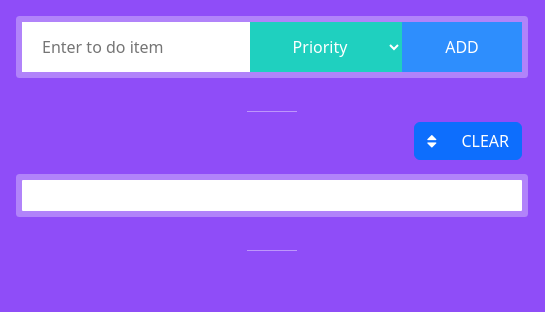
Test: ToDoListComponent › has table data displayed after adding value
Type "New item value" into the field with placeholder "Enter to do item" at (136, 47), box [22, 22, 250, 72]
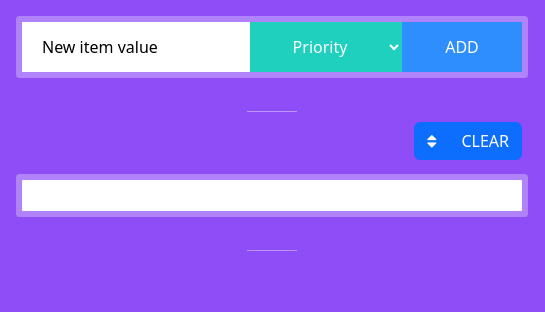
Select "Optional" in the dropdown named "Select priority" at (326, 47), box [250, 22, 402, 72]
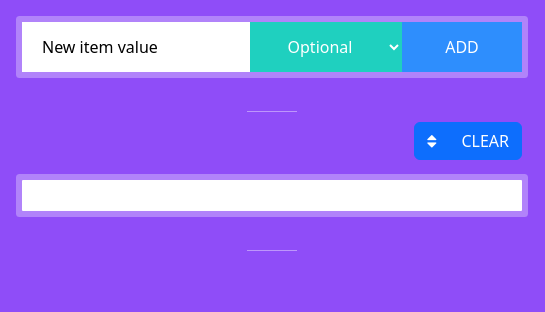
Click the button with class "add-edit-button" at (462, 47), box [402, 22, 522, 72]
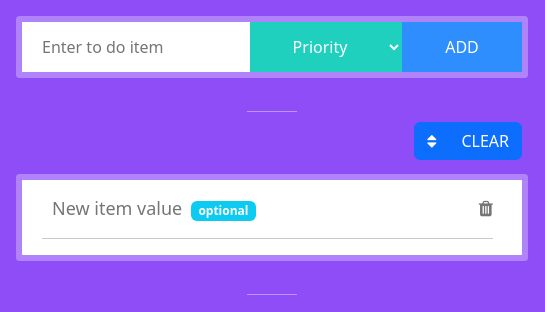
expect the list item "New item value optional" is shown: met, box [52, 196, 493, 221]
